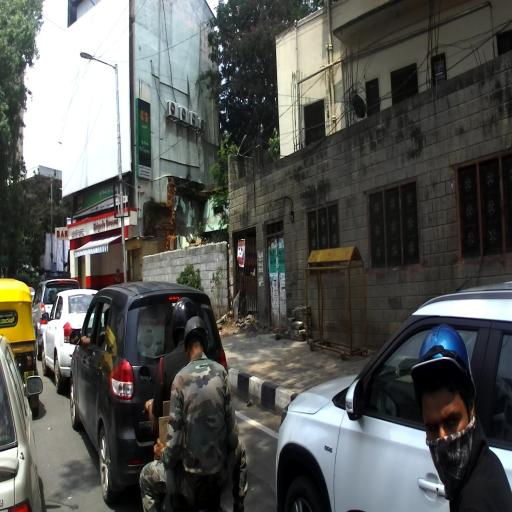street_light_0: (80, 53, 118, 69)
